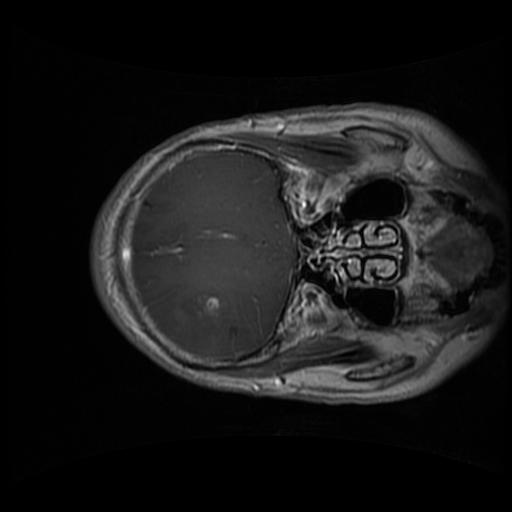glioma: (180, 292, 224, 325)
